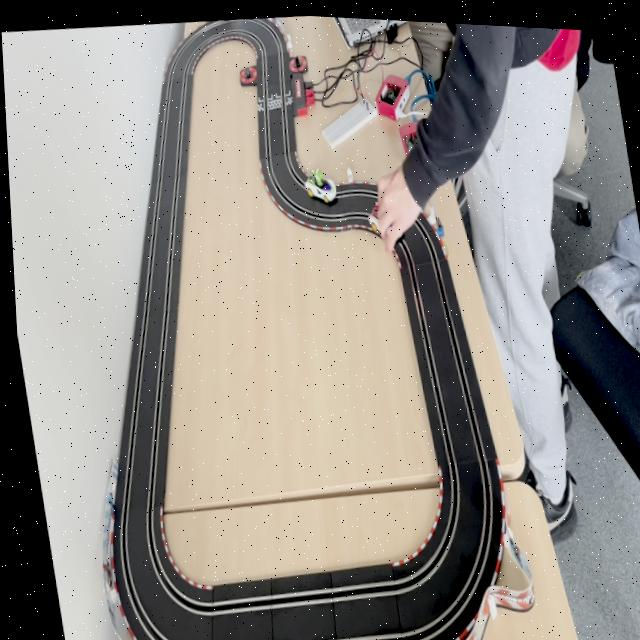mario: (361, 188, 405, 245)
yoshi: (299, 160, 340, 204)
